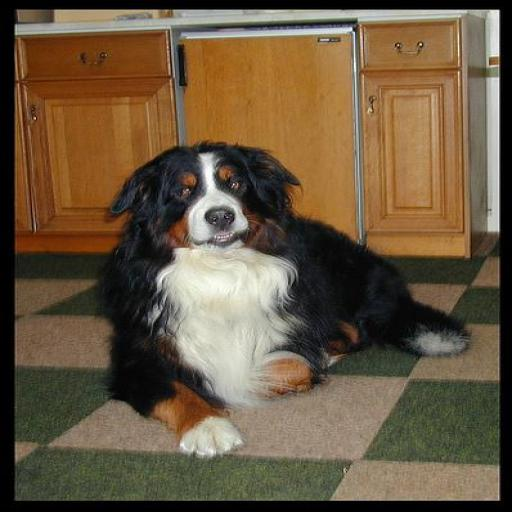dog_face: (122, 143, 288, 252)
